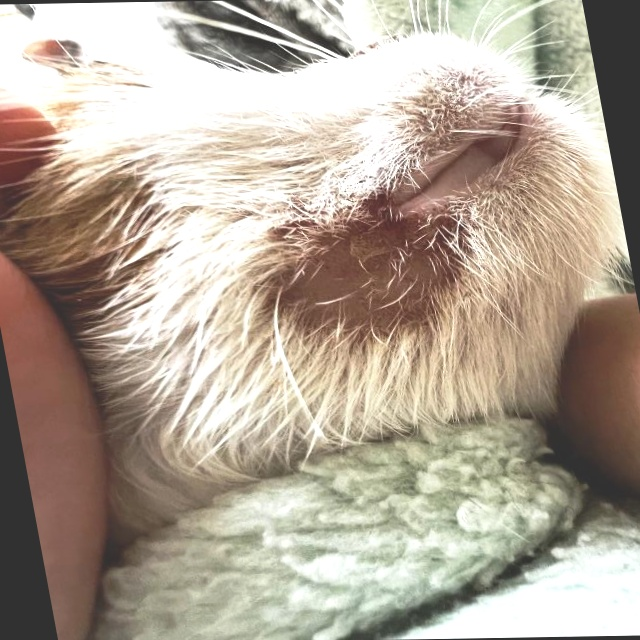ringworm: (241, 208, 473, 330)
